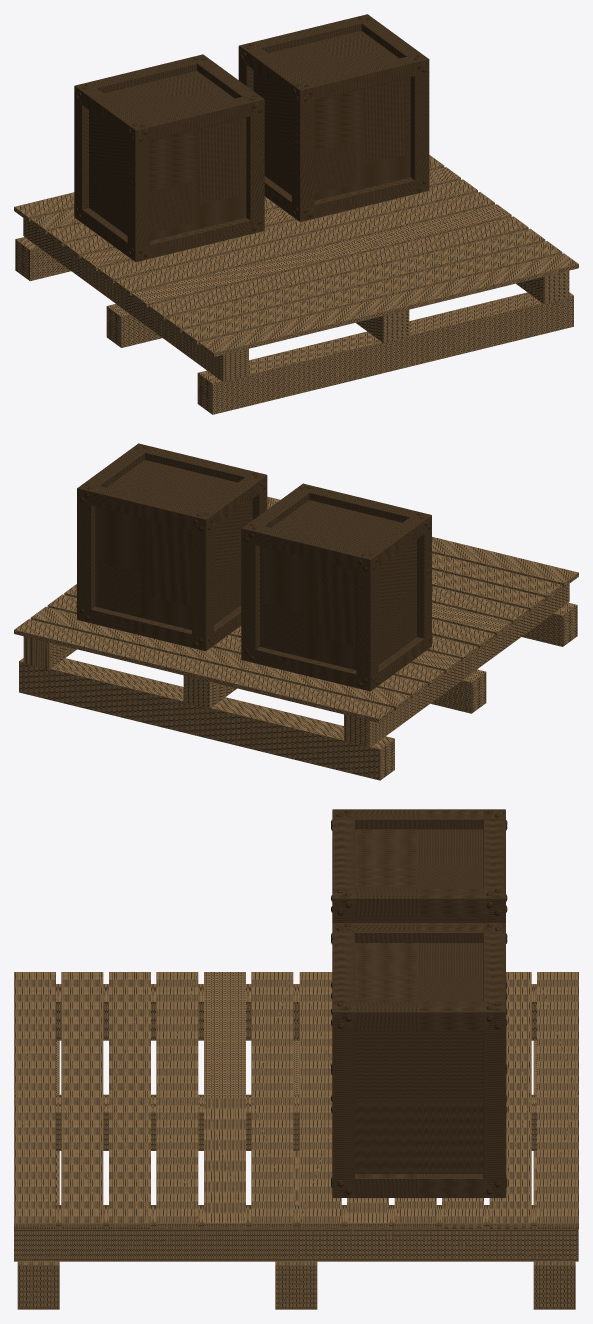
File: Neoflycargo_dangerous_l_1.gltf
3 renders of one model, top to bottom at view 1: azimuth 30°, elevation 25°; view 2: azimuth 150°, elevation 25°; view 3: azimuth 270°, elevation 25°, orthographic. The views are drawn at different scales.
Visible parts, largest first — view 1: Neoflycargo00, Neoflycargo-dangerous.001; view 2: Neoflycargo-dangerous.001, Neoflycargo00; view 3: Neoflycargo00, Neoflycargo-dangerous.001.
Boxes of the visible parts, x1,y1,x2,y2 form: Neoflycargo00: (14, 155, 578, 414); Neoflycargo-dangerous.001: (74, 14, 429, 261); Neoflycargo-dangerous.001: (77, 443, 431, 691); Neoflycargo00: (14, 496, 578, 780); Neoflycargo00: (14, 972, 578, 1309); Neoflycargo-dangerous.001: (331, 809, 507, 1197).
Size of the model in its own units: 1.28 by 0.658 by 1.22.
